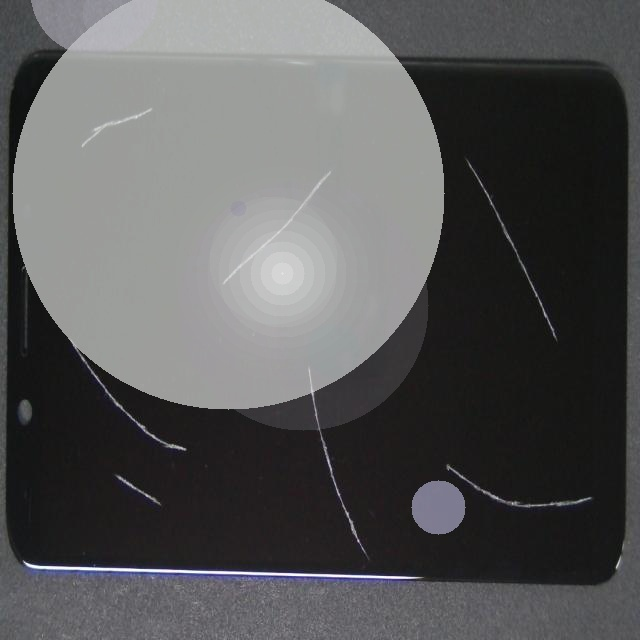scratch: (296, 274, 640, 640), (122, 34, 196, 160)
